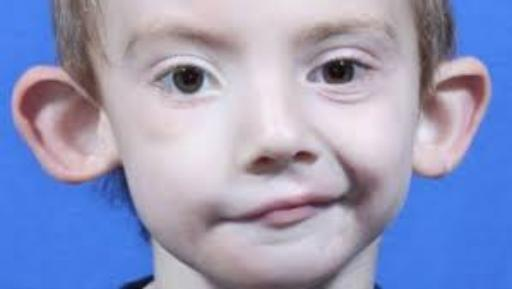left_eye: (304, 59, 382, 88)
left_lip_corner: (324, 190, 356, 210)
right_eye: (153, 63, 227, 100)
right_lip_corner: (205, 211, 255, 229)
